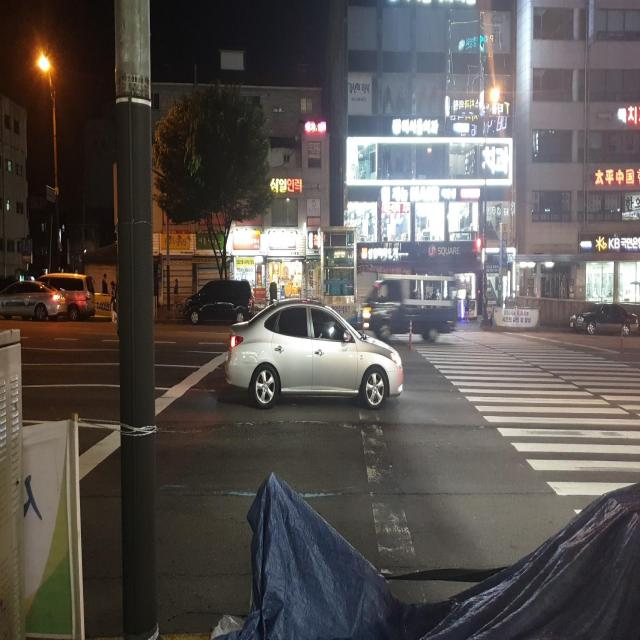빨간불: (474, 234, 484, 264)
횡단보도: (392, 328, 640, 500)
